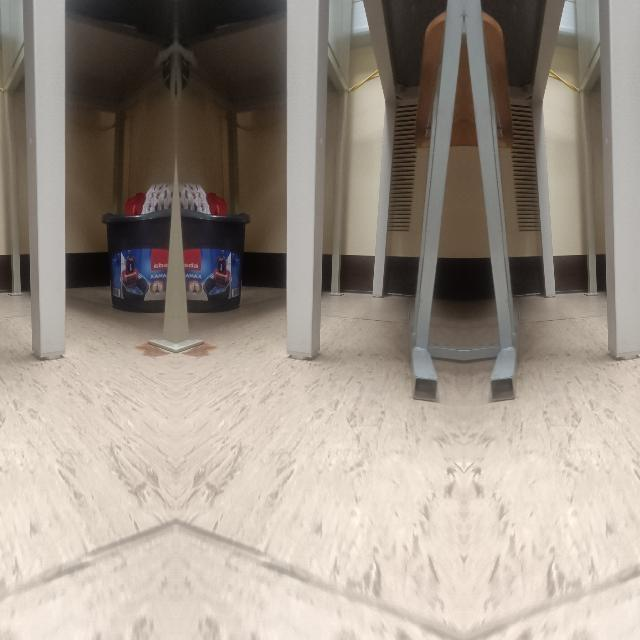obstacle: (467, 156, 518, 402), (410, 156, 460, 402), (278, 110, 324, 364), (26, 110, 72, 364), (602, 110, 640, 363)
